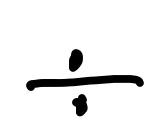div: (26, 47, 144, 114)
